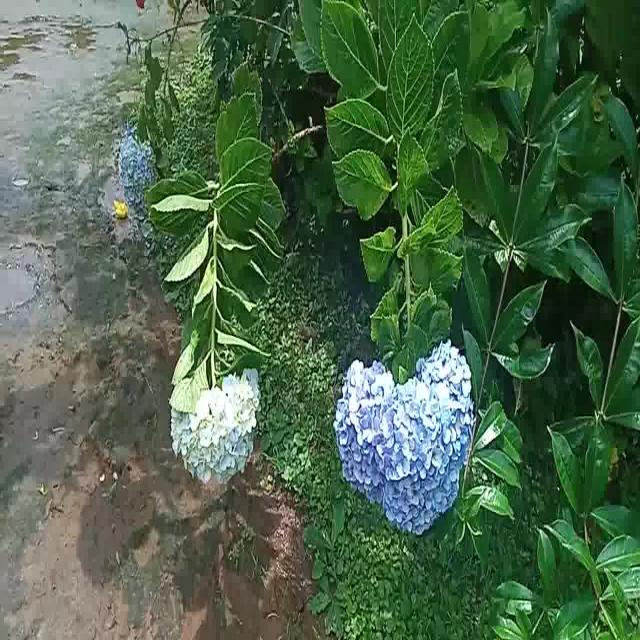Flower: (336, 340, 474, 539), (173, 365, 261, 493), (118, 130, 156, 215)
